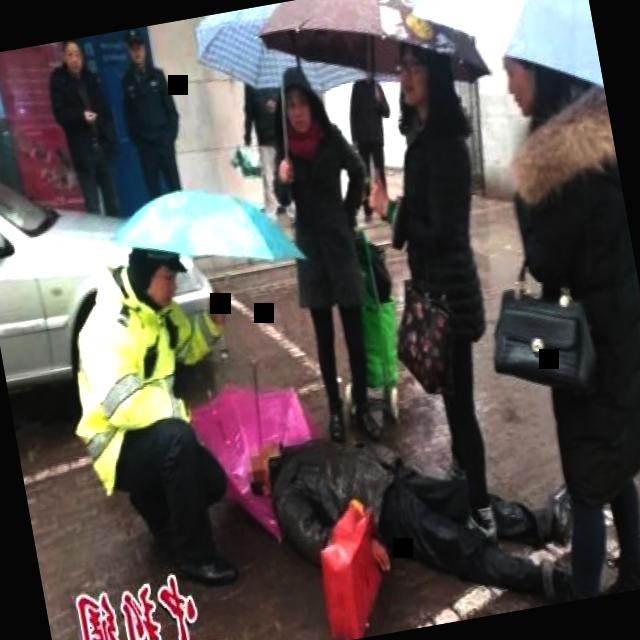Fall-Detected: (234, 363, 594, 640)
